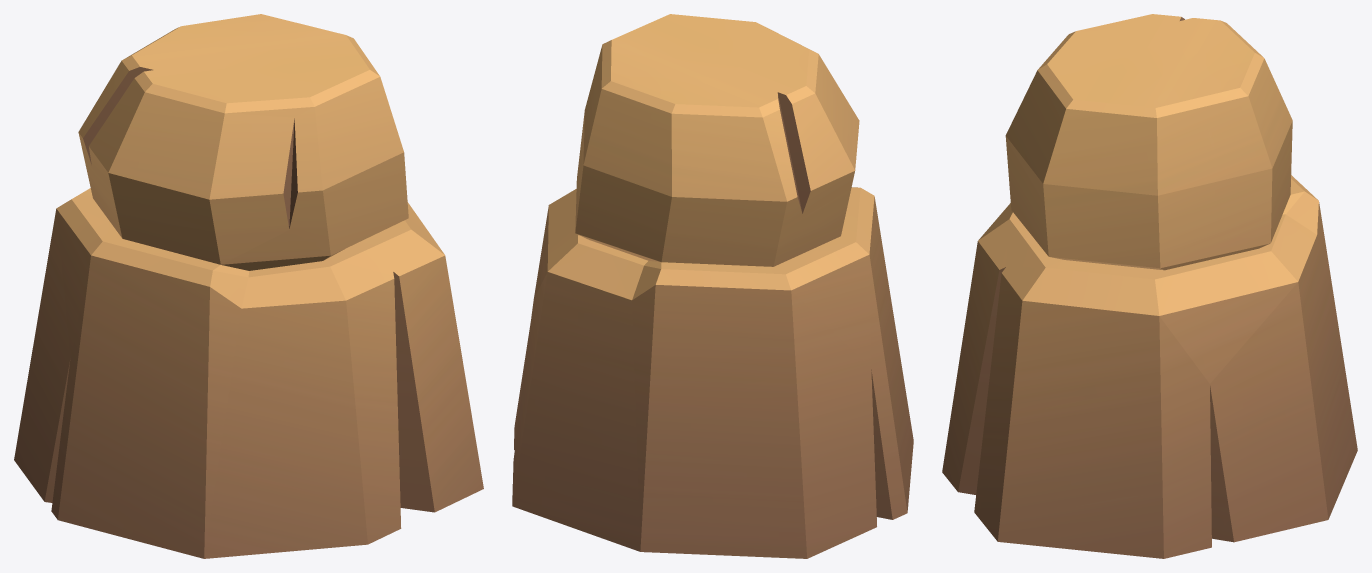
The model's file is high rockb.fbx.
3 renders of one model, left to right at view 1: azimuth 30°, elevation 25°; view 2: azimuth 150°, elevation 25°; view 3: azimuth 270°, elevation 25°, orthographic.
Parts seen in each view (by area): view 1: high_rockb; view 2: high_rockb; view 3: high_rockb.
Boxes of the visible parts, x1,y1,x2,y2 form: high_rockb: (14, 14, 483, 558); high_rockb: (512, 14, 913, 558); high_rockb: (942, 14, 1357, 558).
Bounding box in the file's own units: 9.2 × 9.3 × 8.64.
1 material, 1 textured.
